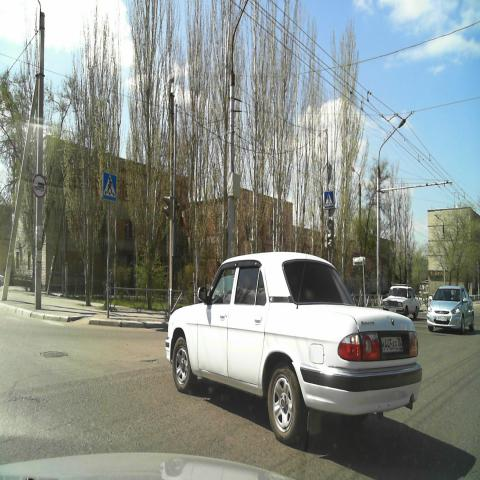3_4_1: (32, 174, 47, 198)
